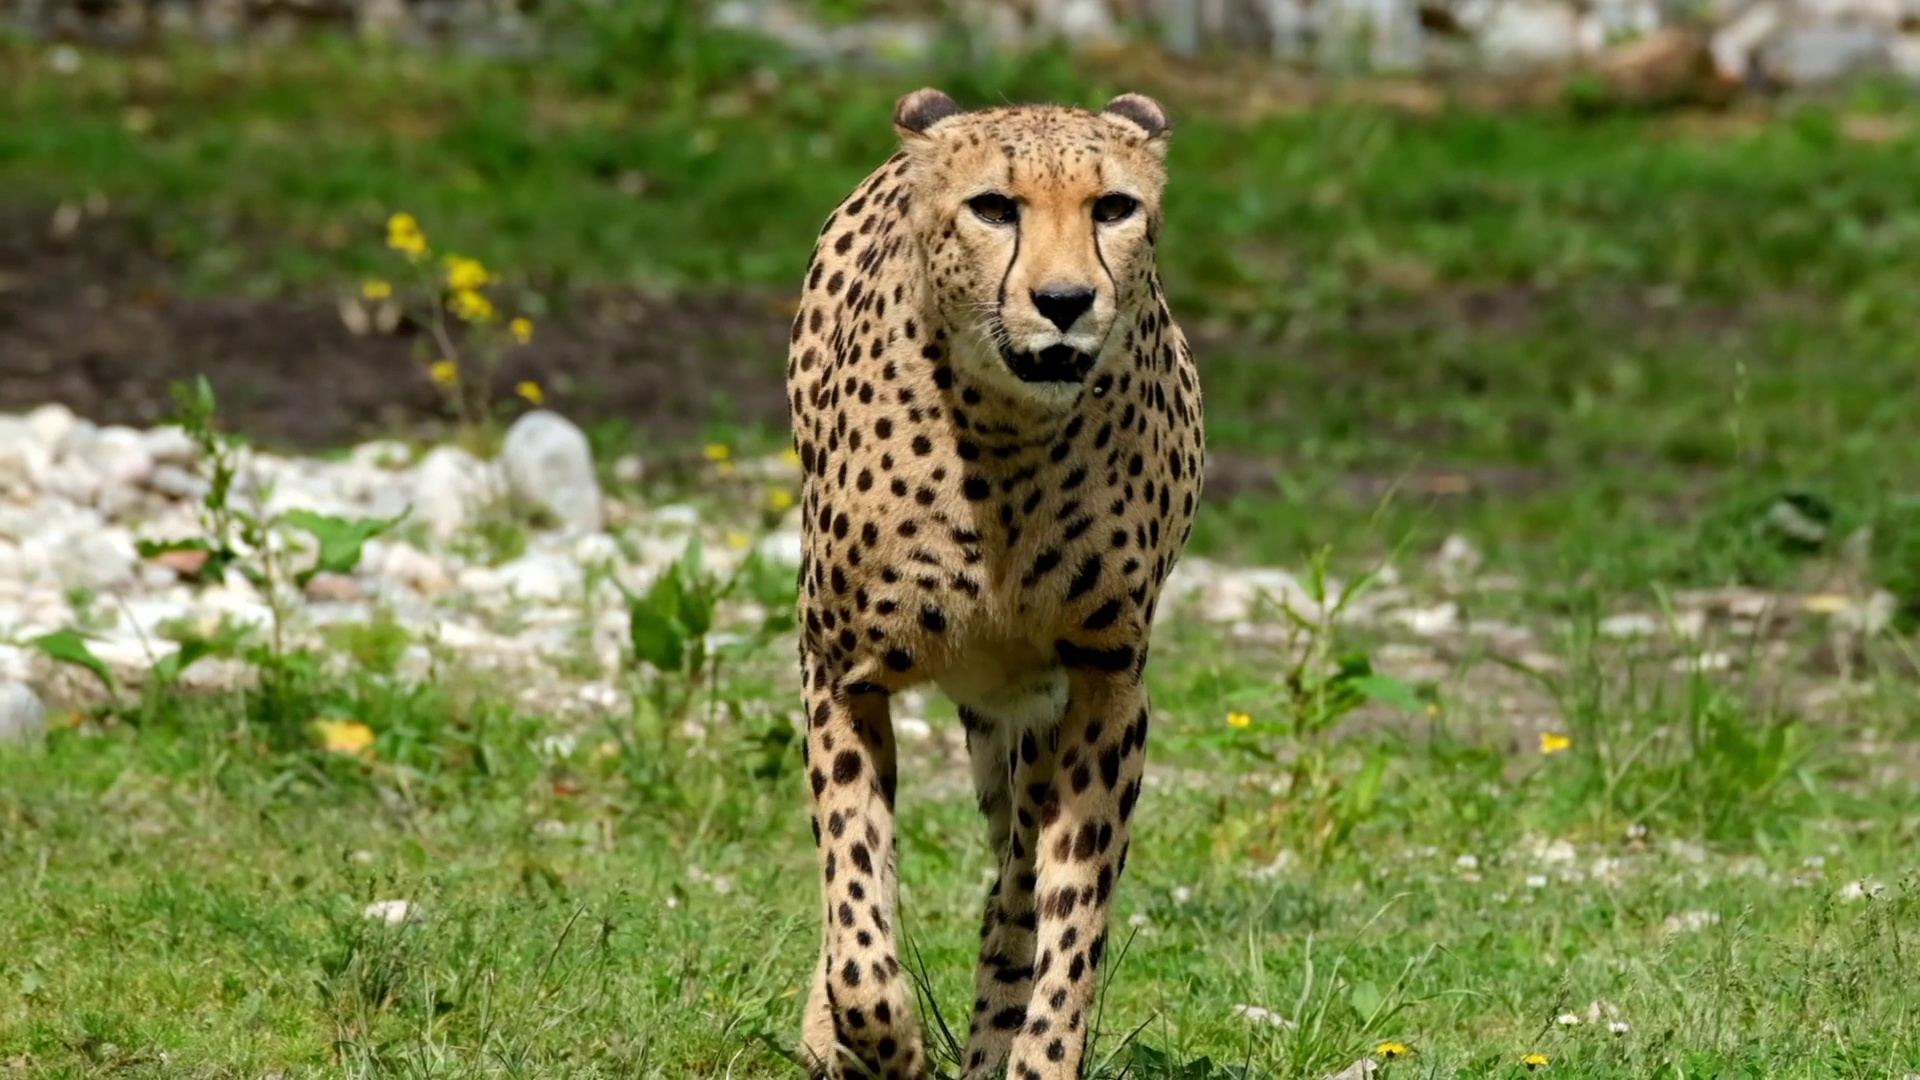Cheetah: (783, 79, 1207, 1080)
